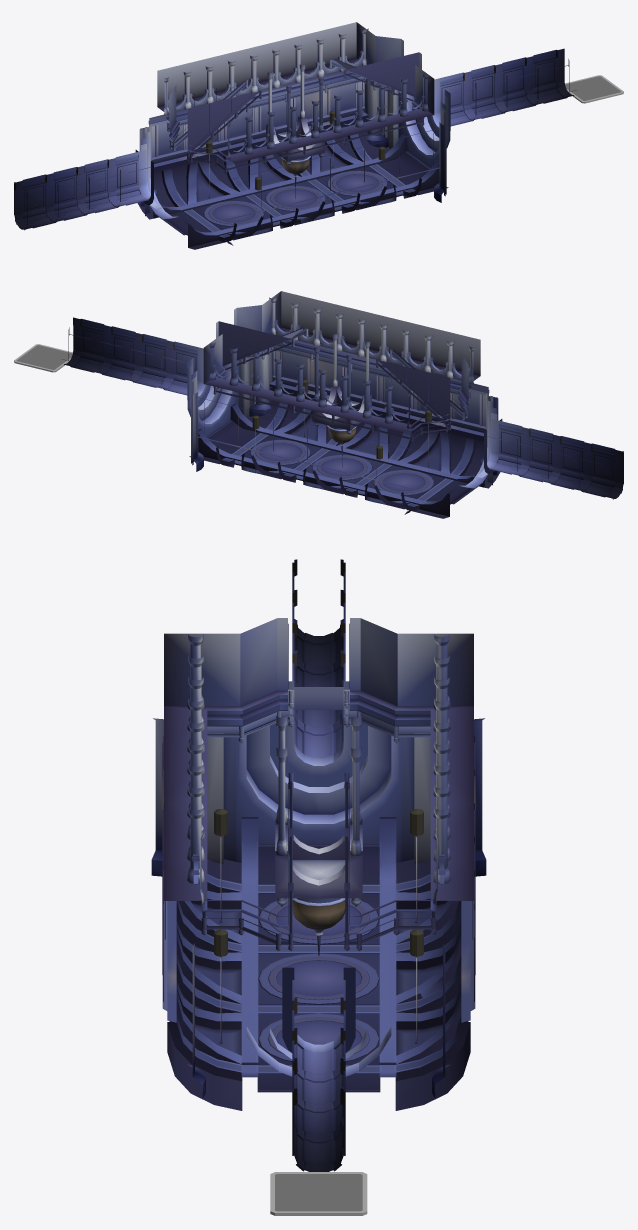
Rendered from NPRotatingRoomInverted.gltf.
3 views of the same model, one above another, from view 1: azimuth 30°, elevation 25°; view 2: azimuth 150°, elevation 25°; view 3: azimuth 270°, elevation 25° (orthographic). The views are drawn at different scales.
Parts seen in each view (by area): view 1: stg071_o27_Mesh_0029, stg071_o27_Mesh_0005, stg071_o27_Mesh_0022, stg071_o27_Mesh_0041, stg071_o27_Mesh_0063, stg071_o27_Mesh_0054, stg071_o27_Mesh_0064, stg071_o27_Mesh_0038, stg071_o27_Mesh_0011, stg071_o27_Mesh_0047, stg071_o27_Mesh_0000, stg071_o27_Mesh_0018 (+9 smaller); view 2: stg071_o27_Mesh_0029, stg071_o27_Mesh_0005, stg071_o27_Mesh_0022, stg071_o27_Mesh_0041, stg071_o27_Mesh_0063, stg071_o27_Mesh_0054, stg071_o27_Mesh_0064, stg071_o27_Mesh_0038, stg071_o27_Mesh_0011, stg071_o27_Mesh_0047, stg071_o27_Mesh_0000, stg071_o27_Mesh_0018 (+9 smaller); view 3: stg071_o27_Mesh_0005, stg071_o27_Mesh_0041, stg071_o27_Mesh_0029, stg071_o27_Mesh_0063, stg071_o27_Mesh_0054, stg071_o27_Mesh_0022, stg071_o27_Mesh_0038, stg071_o27_Mesh_0064, stg071_o27_Mesh_0047, stg071_o27_Mesh_0018, stg071_o27_Mesh_0020, stg071_o27_Mesh_0062 (+6 smaller).
Part boxes in pixels (x1,y1,x2,y2): stg071_o27_Mesh_0029: (14,31,569,245); stg071_o27_Mesh_0005: (22,52,566,234); stg071_o27_Mesh_0022: (139,33,444,247); stg071_o27_Mesh_0041: (149,50,446,242); stg071_o27_Mesh_0063: (154,22,434,235); stg071_o27_Mesh_0054: (22,28,558,237); stg071_o27_Mesh_0064: (14,50,576,236); stg071_o27_Mesh_0038: (26,82,564,249); stg071_o27_Mesh_0011: (22,54,556,212); stg071_o27_Mesh_0047: (22,55,568,224); stg071_o27_Mesh_0000: (24,61,553,209); stg071_o27_Mesh_0018: (212,174,378,222); stg071_o27_Mesh_0029: (68,301,623,514); stg071_o27_Mesh_0005: (71,321,615,503); stg071_o27_Mesh_0022: (193,302,498,516); stg071_o27_Mesh_0041: (191,319,488,511); stg071_o27_Mesh_0063: (203,291,483,504); stg071_o27_Mesh_0054: (79,297,615,506); stg071_o27_Mesh_0064: (62,319,623,505); stg071_o27_Mesh_0038: (73,351,611,518); stg071_o27_Mesh_0011: (81,323,615,481); stg071_o27_Mesh_0047: (69,324,615,493); stg071_o27_Mesh_0000: (84,330,613,478); stg071_o27_Mesh_0018: (259,443,425,491); stg071_o27_Mesh_0005: (164,623,473,1161); stg071_o27_Mesh_0041: (167,694,470,1081); stg071_o27_Mesh_0029: (151,559,486,1171); stg071_o27_Mesh_0063: (164,618,473,1091); stg071_o27_Mesh_0054: (155,634,482,1159); stg071_o27_Mesh_0022: (155,644,482,1092); stg071_o27_Mesh_0038: (167,642,470,1164); stg071_o27_Mesh_0064: (167,619,470,1171); stg071_o27_Mesh_0047: (162,572,475,1091); stg071_o27_Mesh_0018: (276,905,361,1051); stg071_o27_Mesh_0020: (196,625,441,1171); stg071_o27_Mesh_0062: (277,841,360,889).
Size of the model in its own units: 221 by 45.61 by 54.05.
